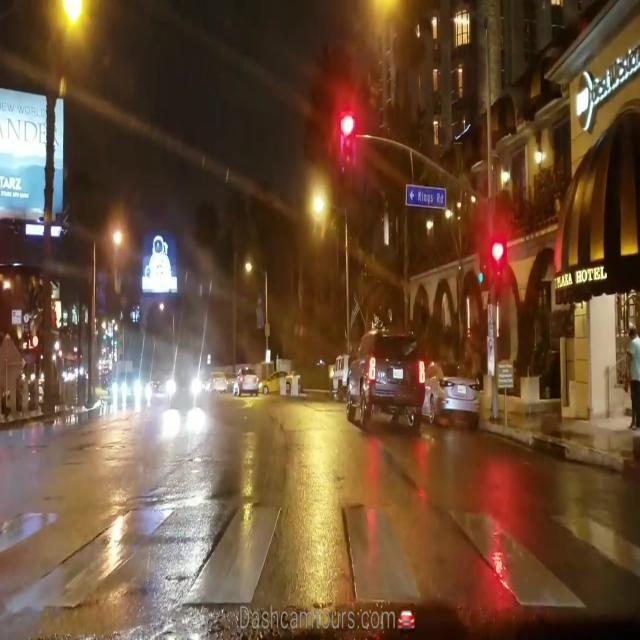Car: (344, 325, 425, 433), (167, 362, 202, 401), (232, 367, 257, 395)
